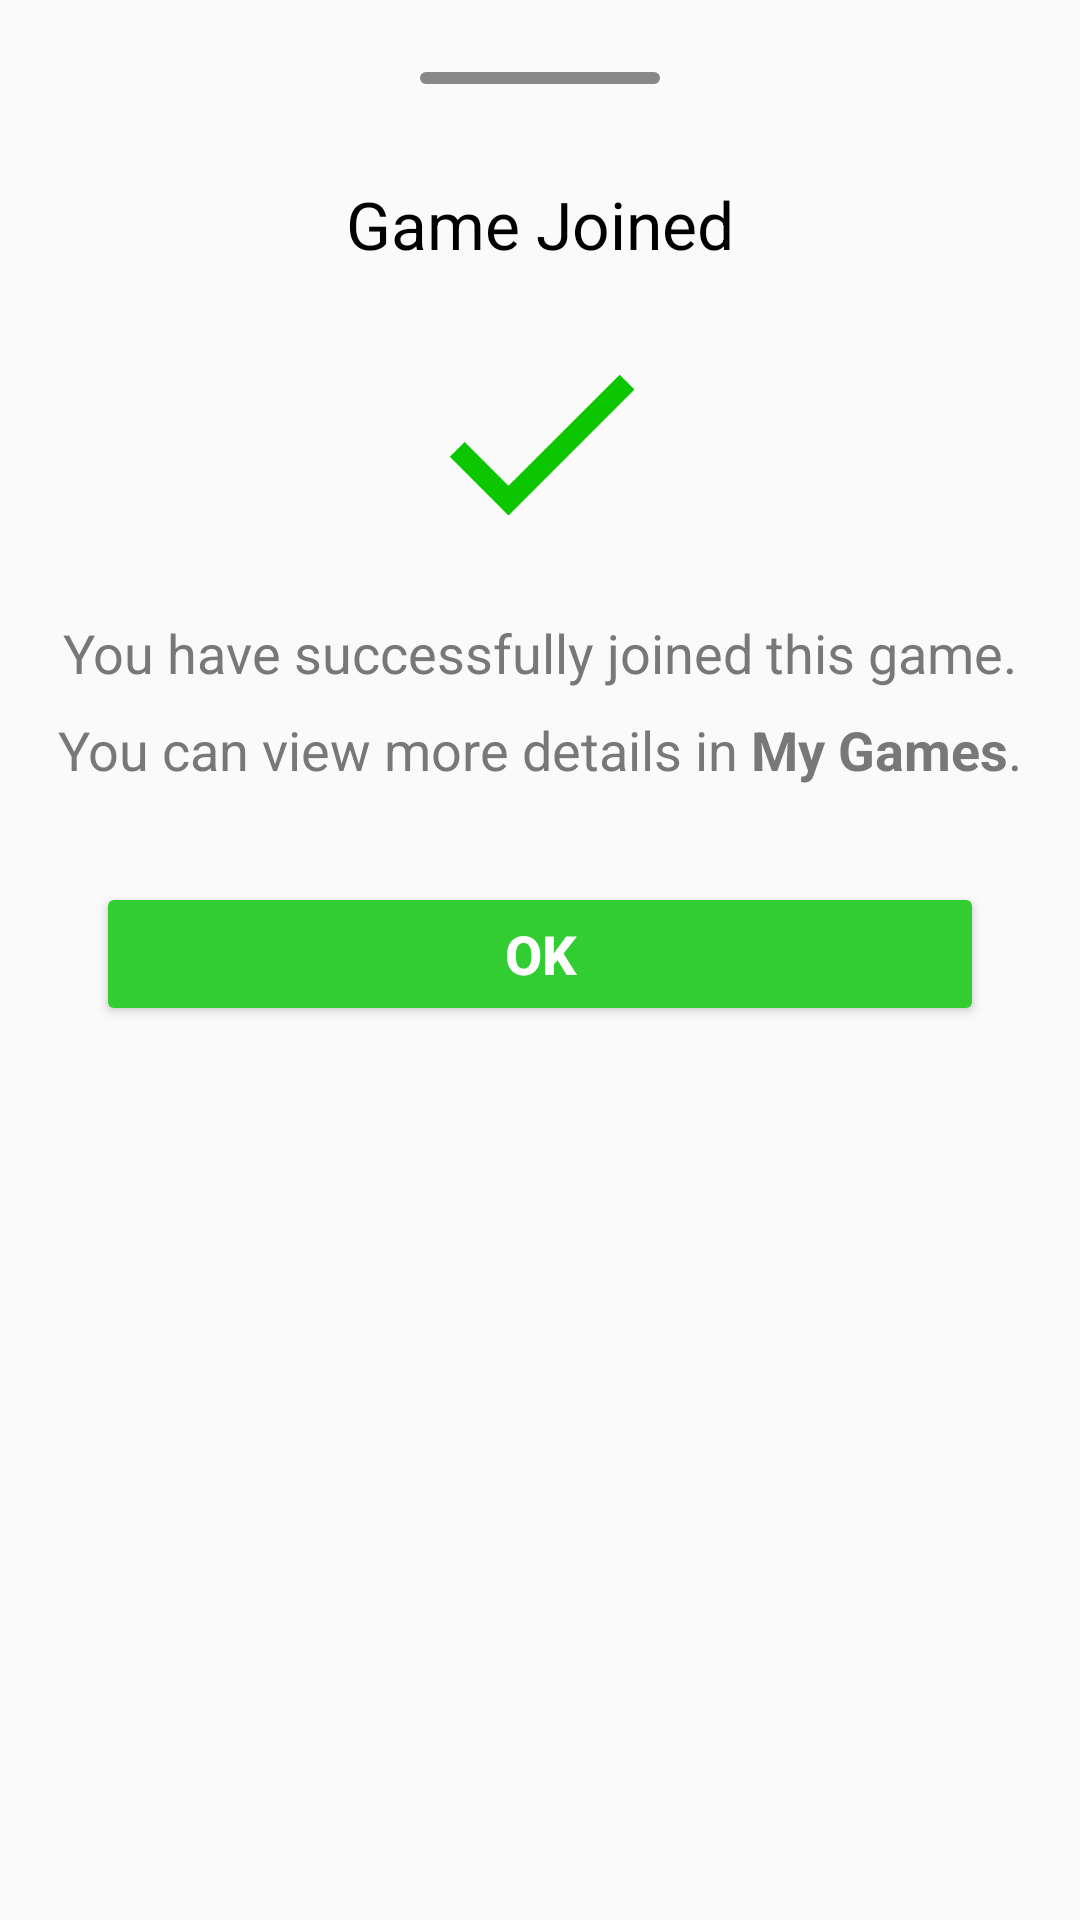

Icons on this 1080w x 1920h Android screen, each with its box as region(x1, y1, x2, y2):
check: region(450, 375, 635, 516)
